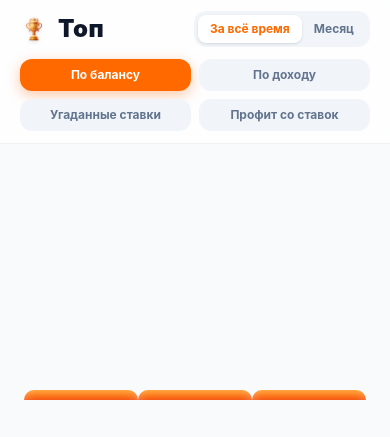
Scenario: Leaderboard Component › renders negative profit as minus and never as +-
Switch to 'Профит со ставок' tab
Click the button "Профит со ставок" at (284, 115), box [199,99,370,131]
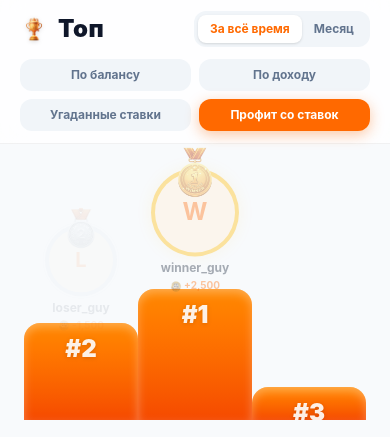
Result: the text "-1,500" is shown at [58,318,104,333]
Result: the text "+2,500" is shown at [170,278,220,293]
